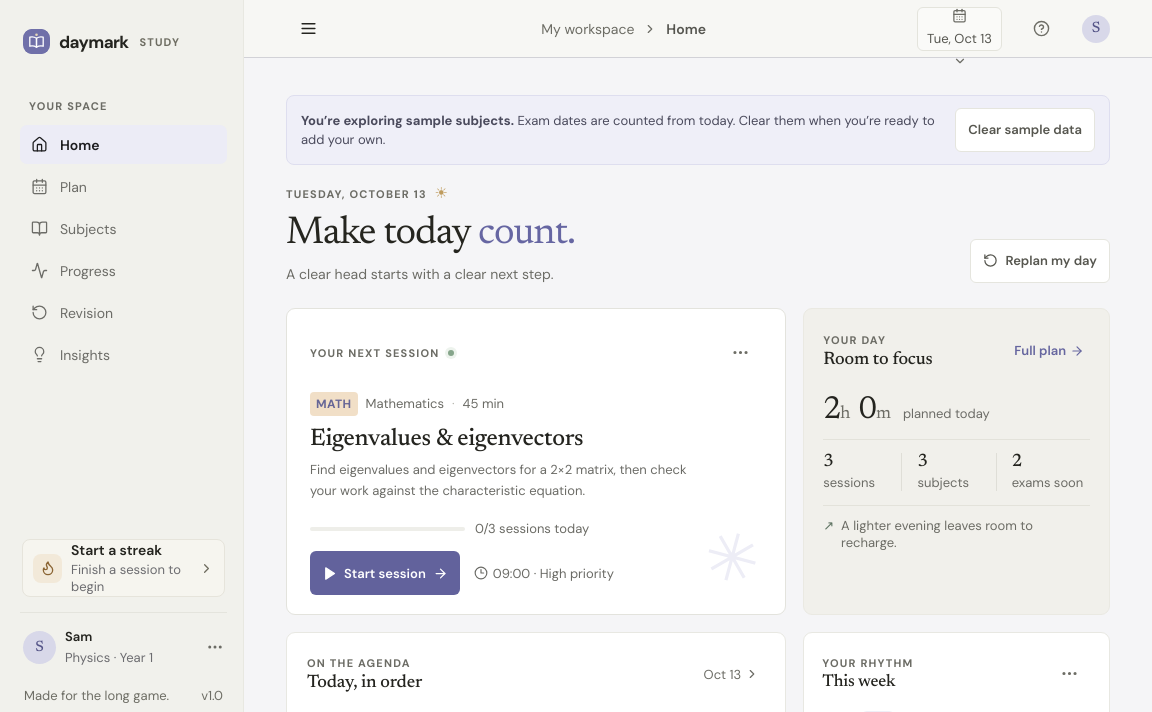
Scenario: dialogs › close from the close button
Click the button with aria-label "Edit profile" at x=124, y=643, box [20, 612, 227, 674]
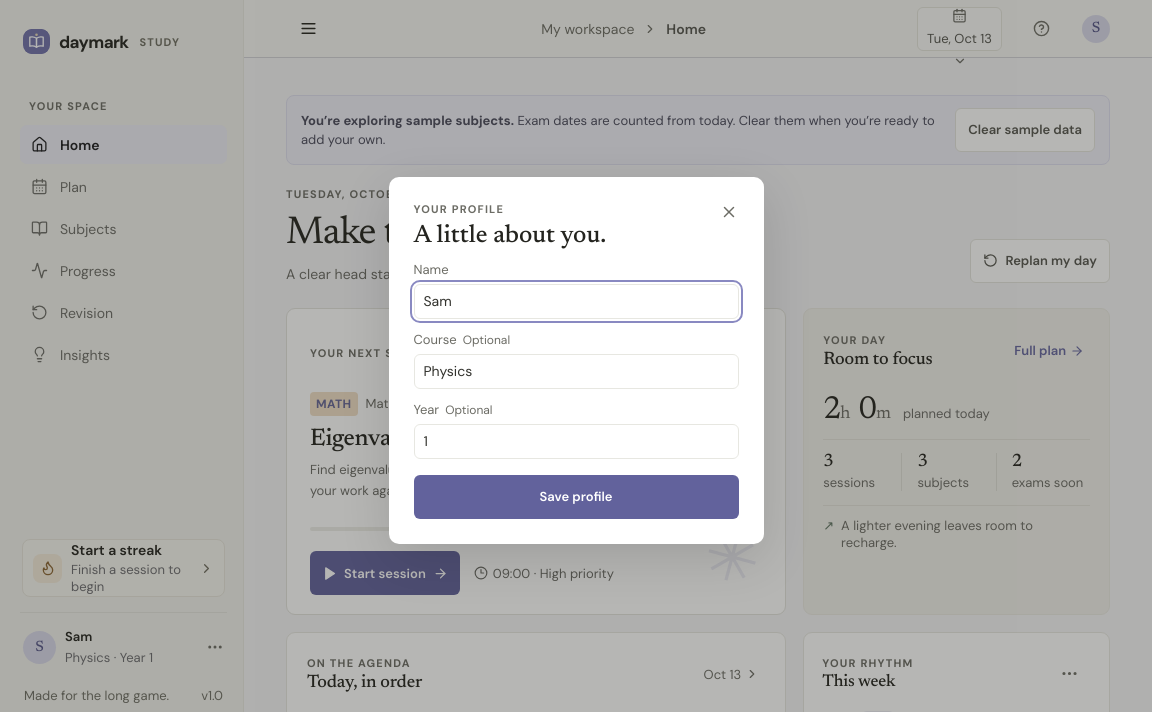
Click the button named "Close profile" at x=728, y=212, box [706, 190, 750, 234]
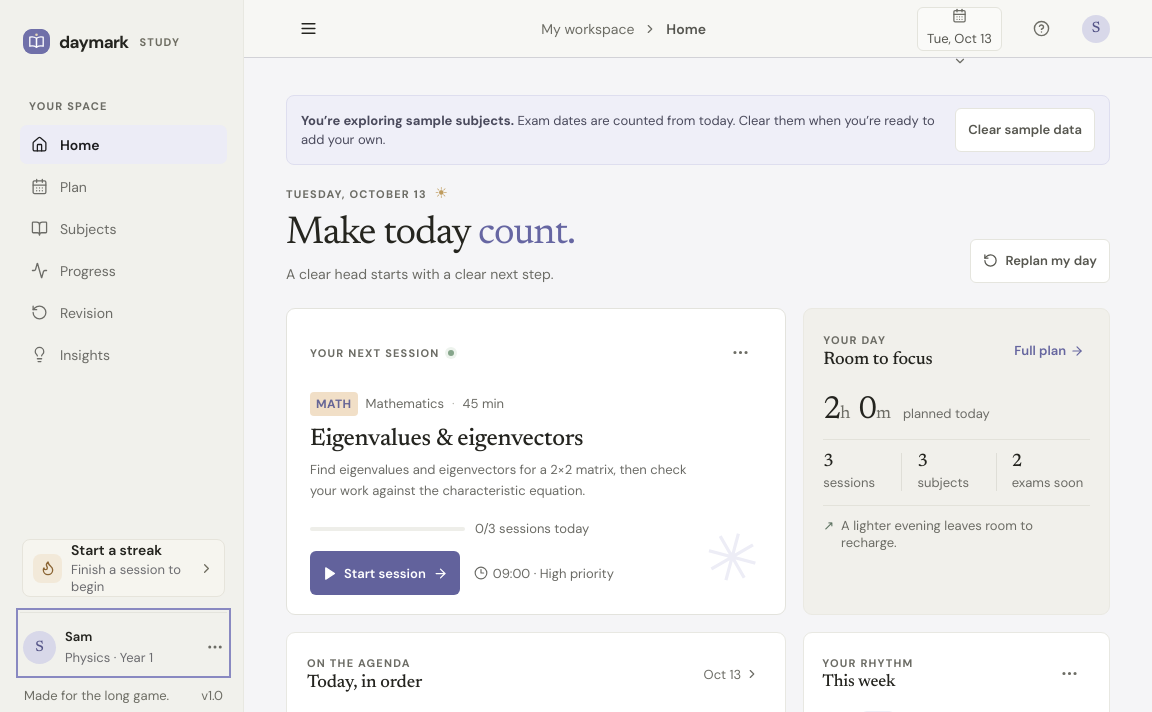
Check: the dialog is gone
